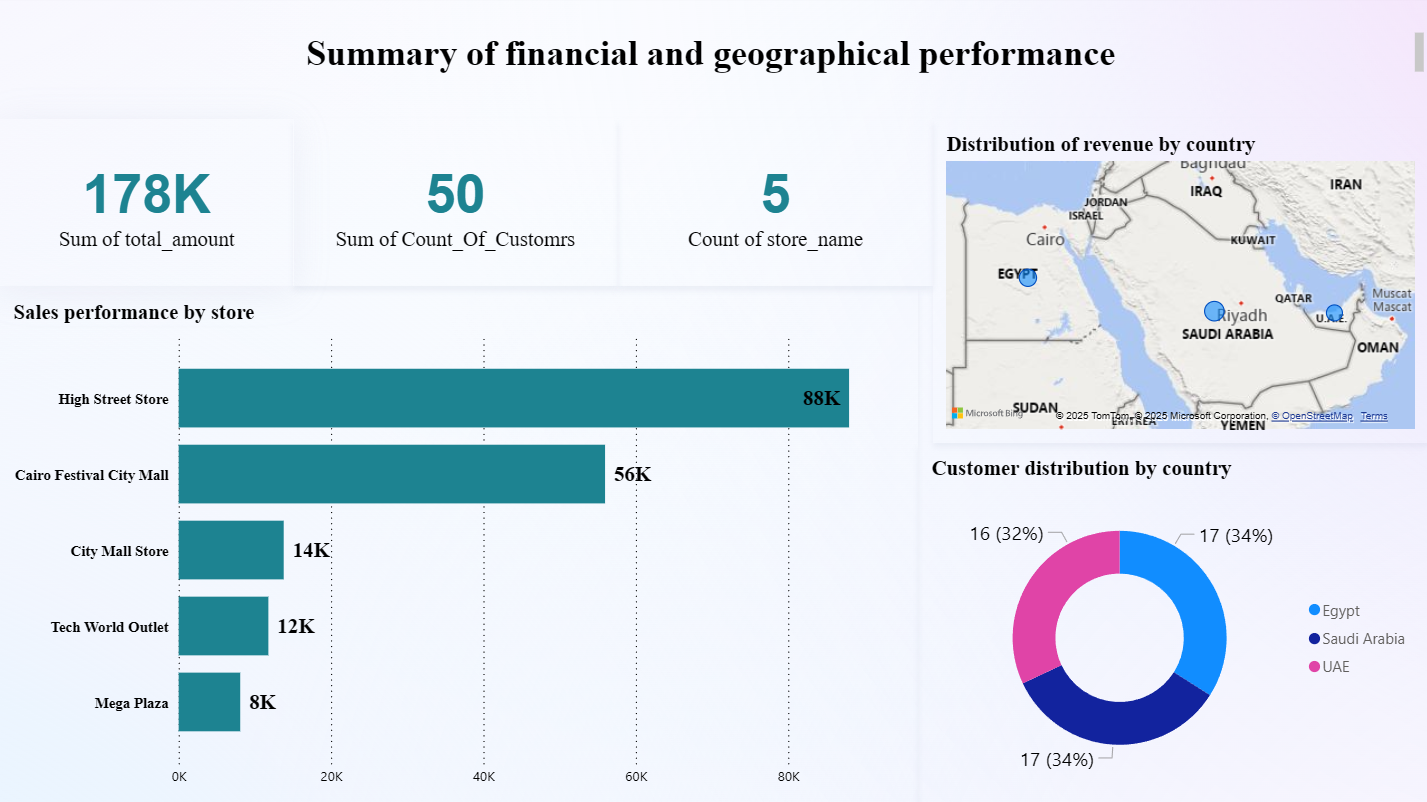

The dashboard page shown, as its layout file describes it:
{"tool":"powerbi","page":{"name":"Financial ","canvas":[1280,720],"ordinal":0},"visuals":[{"type":"textbox","box":[0,24.3,1280,45.7],"z":0},{"type":"map","title":"Distribution of revenue by country","fields":{"Category":["country_revenue_gold.country"],"Size":["Sum(country_revenue_gold.total_amount)"]},"box":[835.5,107,444.5,289.8],"z":1000},{"type":"card","title":"Total revenue","fields":{"Values":["Sum(country_revenue_gold.total_amount)"]},"box":[0,107,262.6,149.8],"z":2000},{"type":"card","fields":{"Values":["Sum(country_customer_gold.Count_Of_Customrs)"]},"box":[262.6,107,290.8,149.8],"z":3000},{"type":"card","fields":{"Values":["Count(store_sales_gold.store_name)"]},"box":[553.4,107,282.1,149.8],"z":4000},{"type":"barChart","title":"Sales performance by store","fields":{"Category":["store_sales_gold.store_name"],"Y":["Sum(store_sales_gold.total_amount)"]},"box":[0,256.8,821.9,463],"z":5000},{"type":"donutChart","title":"Customer distribution by country","fields":{"Category":["country_customer_gold.country"],"Y":["Sum(country_customer_gold.Count_Of_Customrs)"]},"box":[821.9,396.8,458.1,322.9],"z":6000}]}

Visuals, with their boxes in screenshot pixels (x1, y1, x2, y2), scaled from the page's 1280x720 canvas onto the 1427x802 screenshot:
textbox: (0, 27, 1426, 78)
"Distribution of revenue by country" map: (931, 119, 1426, 442)
"Total revenue" card: (0, 119, 293, 286)
card - Sum(country_customer_gold.Count_Of_Customrs): (293, 119, 617, 286)
card - Count(store_sales_gold.store_name): (617, 119, 931, 286)
"Sales performance by store" barChart: (0, 286, 916, 801)
"Customer distribution by country" donutChart: (916, 442, 1426, 801)
